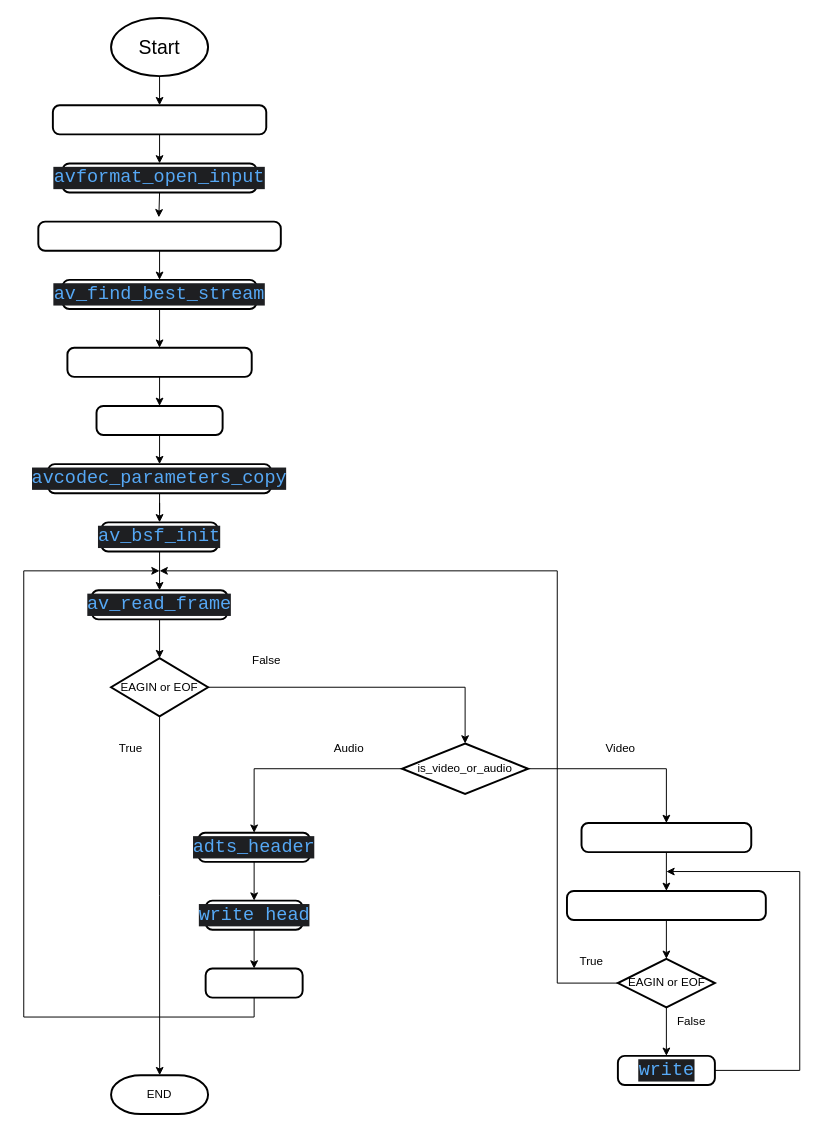
The diagram is 825 pixels wide and 1131 high, and some of its shapes have lost their labels. Here are the shapes that lost their labels. From the top down, the centre of each, then its label:
point 159,119: avformat_alloc_context
point 159,235: avformat_find_stream_info
point 159,361: av_bsf_get_by_name
point 159,420: av_bsf_alloc
point 666,837: av_bsf_send_packet
point 666,905: av_bsf_receive_packet
point 253,982: write data
